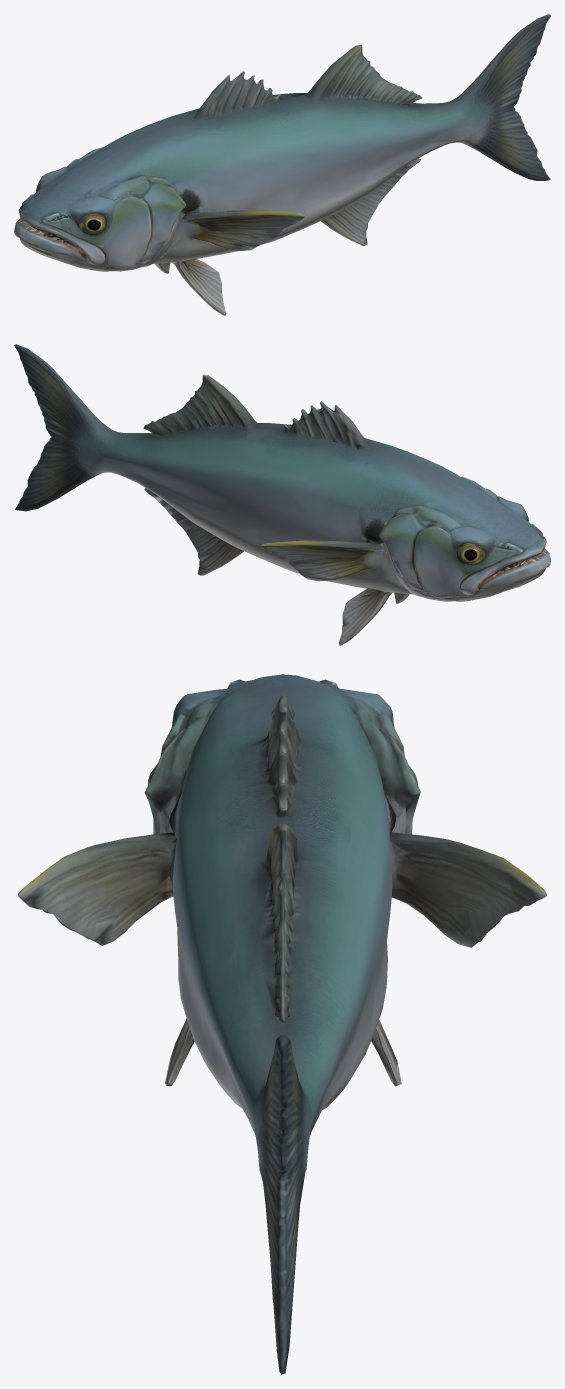
Rendered from fish-lufar.glb.
3 renders of one model, top to bottom at view 1: azimuth 30°, elevation 25°; view 2: azimuth 150°, elevation 25°; view 3: azimuth 270°, elevation 25°, orthographic. The views are drawn at different scales.
Visible parts, largest first — view 1: tripo_node_4385a7de-421f-4a98-8b66-20ce78d20dd0; view 2: tripo_node_4385a7de-421f-4a98-8b66-20ce78d20dd0; view 3: tripo_node_4385a7de-421f-4a98-8b66-20ce78d20dd0.
Part boxes in pixels (<box>): tripo_node_4385a7de-421f-4a98-8b66-20ce78d20dd0: <box>14,14,550,315</box>; tripo_node_4385a7de-421f-4a98-8b66-20ce78d20dd0: <box>14,344,550,645</box>; tripo_node_4385a7de-421f-4a98-8b66-20ce78d20dd0: <box>18,674,546,1374</box>.
Size of the model in its own units: 1 by 0.3794 by 0.4297.
1 material, 1 textured.
